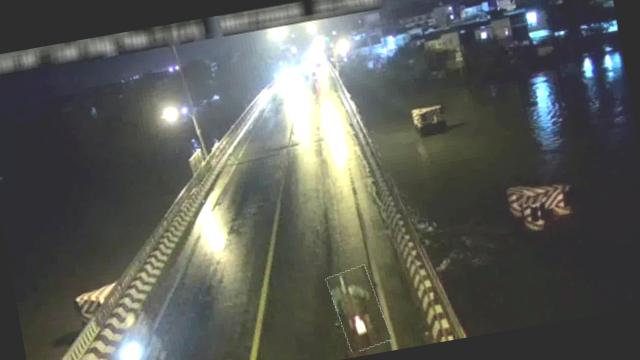Bike: (328, 264, 390, 352), (308, 67, 319, 82)
